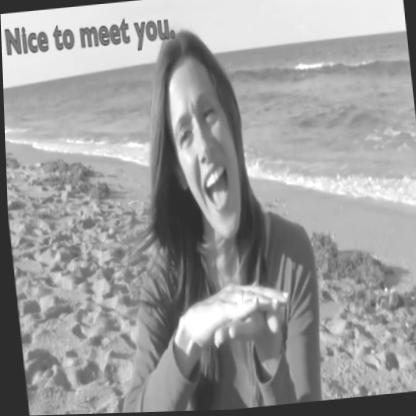NiceToMeetYou: (176, 265, 312, 380)
